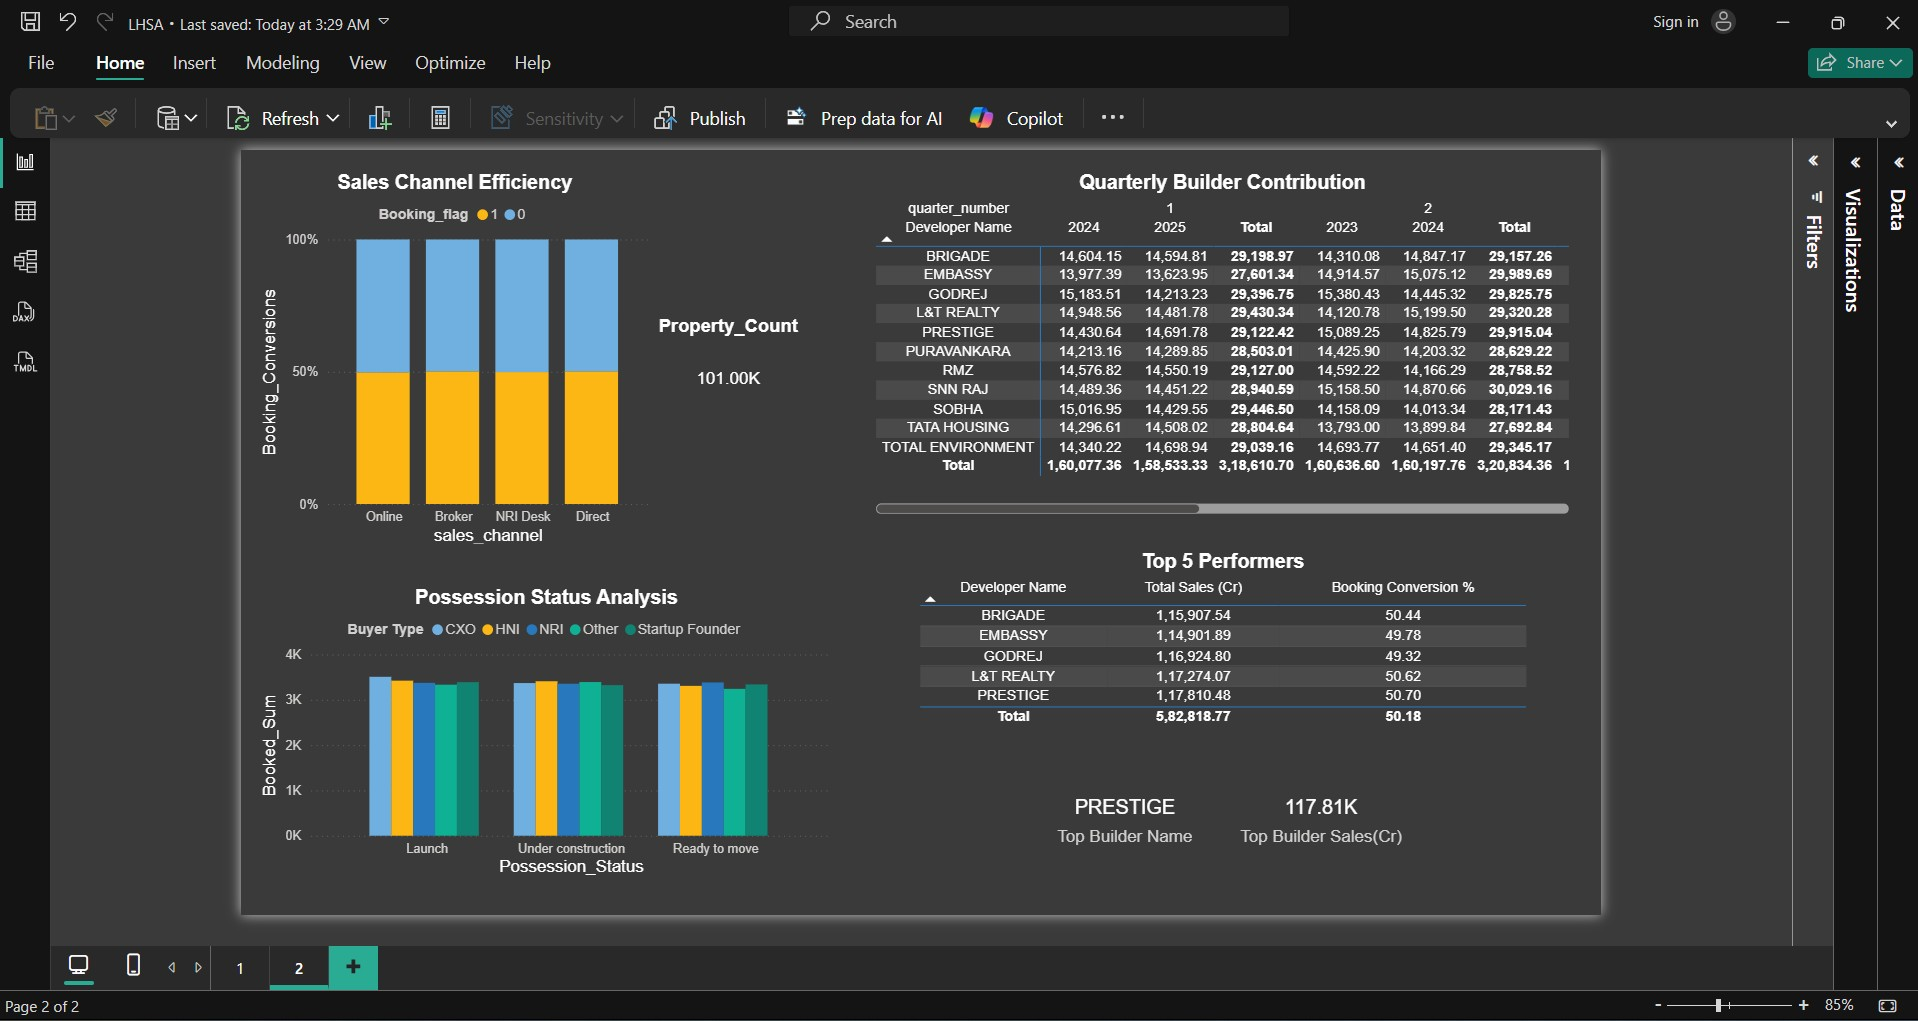

The dashboard page shown, as its layout file describes it:
{"tool":"powerbi","page":{"name":"2","canvas":[1280,720],"ordinal":1},"visuals":[{"type":"hundredPercentStackedColumnChart","title":"Sales Channel Efficiency","fields":{"Category":["public luxury_housing_cleaned.sales_channel"],"Series":["public luxury_housing_cleaned.booking_flag"],"Y":["CountNonNull(public luxury_housing_cleaned.property_id)"]},"box":[14.3,20,374.3,355.7],"z":0,"group":"g2"},{"type":"pivotTable","title":"Quarterly Builder Contribution","fields":{"Rows":["public luxury_housing_cleaned.Developer Name"],"Columns":["public luxury_housing_cleaned.quarter_number","public luxury_housing_cleaned.Year"],"Values":["Sum(public luxury_housing_cleaned.ticket_price_cr)"]},"box":[592.9,20,661.4,327.1],"z":0},{"type":"group","id":"g1","title":"Group 2","box":[14.3,20,547.1,355.7],"z":1000},{"type":"group","id":"g2","title":"Group 1","box":[14.3,20,547.1,355.7],"z":2000,"group":"g1"},{"type":"card","title":"Property_Count","fields":{"Values":["CountNonNull(public luxury_housing_cleaned.property_id)"]},"box":[357.2,155.7,204.3,107.1],"z":2000,"group":"g2"},{"type":"clusteredColumnChart","title":"Possession Status Analysis","fields":{"Category":["public luxury_housing_cleaned.possession_status"],"Y":["Sum(public luxury_housing_cleaned.booking_flag)"],"Series":["public luxury_housing_cleaned.Buyer Type"]},"box":[14.7,410.7,546.7,277.3],"z":2000},{"type":"tableEx","title":"Top 5 Performers","fields":{"Values":["public luxury_housing_cleaned.Developer Name","public luxury_housing_cleaned.Total Sales (Cr)","public luxury_housing_cleaned.Booking Conversion %"]},"box":[633.3,376,582.7,173.3],"z":2001,"group":"g3"},{"type":"card","fields":{"Values":["public luxury_housing_cleaned.Top Builder Name"]},"box":[740,568,184,121.3],"z":2002,"group":"g3"},{"type":"card","fields":{"Values":["public luxury_housing_cleaned.Top Builder Sales(Cr)"]},"box":[925.3,568,184,121.3],"z":2003,"group":"g3"},{"type":"group","id":"g3","title":"Group 3","box":[633.3,376,582.7,313.3],"z":2004}]}

Visuals, with their boxes on the page's 1280x720 design canvas (x1, y1, x2, y2). These are canvas units, not pixel positions in the 1918x1021 screenshot, which may show the page scaled, cropped or inside an application window:
"Sales Channel Efficiency" hundredPercentStackedColumnChart: x1=14 y1=20 x2=389 y2=376
"Quarterly Builder Contribution" pivotTable: x1=593 y1=20 x2=1254 y2=347
"Group 2" group: x1=14 y1=20 x2=561 y2=376
"Group 1" group: x1=14 y1=20 x2=561 y2=376
"Property_Count" card: x1=357 y1=156 x2=562 y2=263
"Possession Status Analysis" clusteredColumnChart: x1=15 y1=411 x2=561 y2=688
"Top 5 Performers" tableEx: x1=633 y1=376 x2=1216 y2=549
card - public luxury_housing_cleaned.Top Builder Name: x1=740 y1=568 x2=924 y2=689
card - public luxury_housing_cleaned.Top Builder Sales(Cr): x1=925 y1=568 x2=1109 y2=689
"Group 3" group: x1=633 y1=376 x2=1216 y2=689
